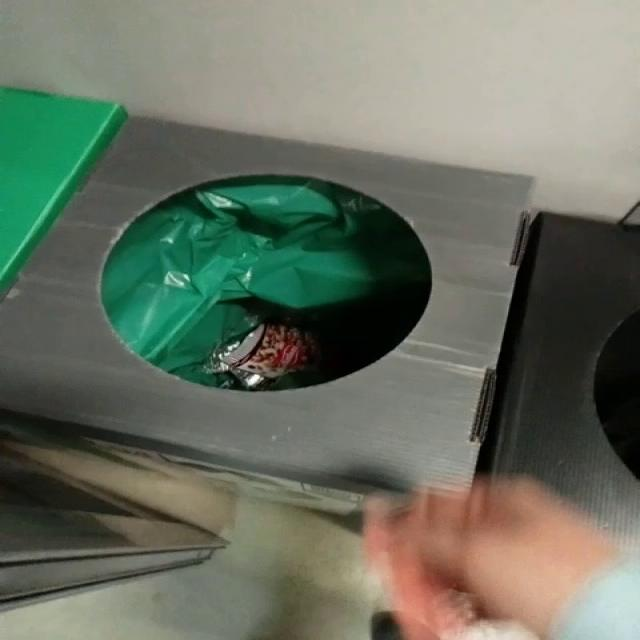bin: (1, 117, 533, 490)
metal: (213, 324, 319, 390)
